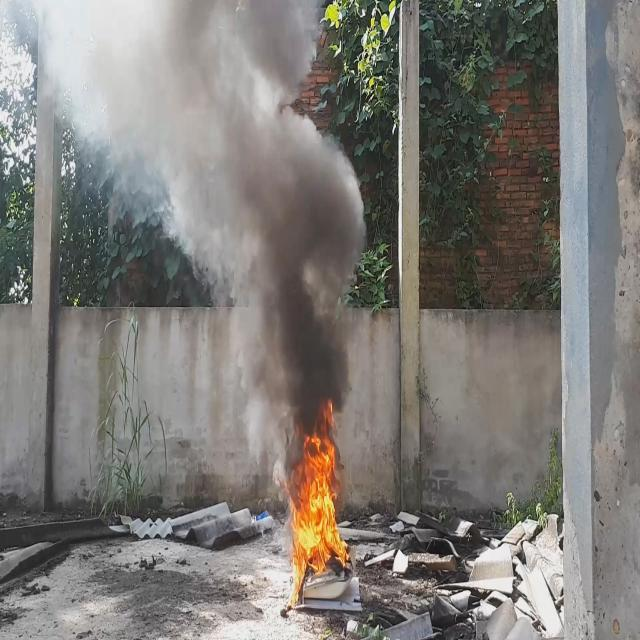Fire: (288, 394, 346, 607)
Smoke: (39, 0, 372, 486)
